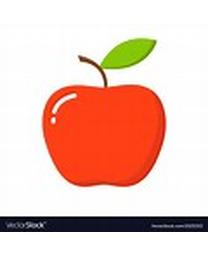apple: (42, 38, 166, 188)
